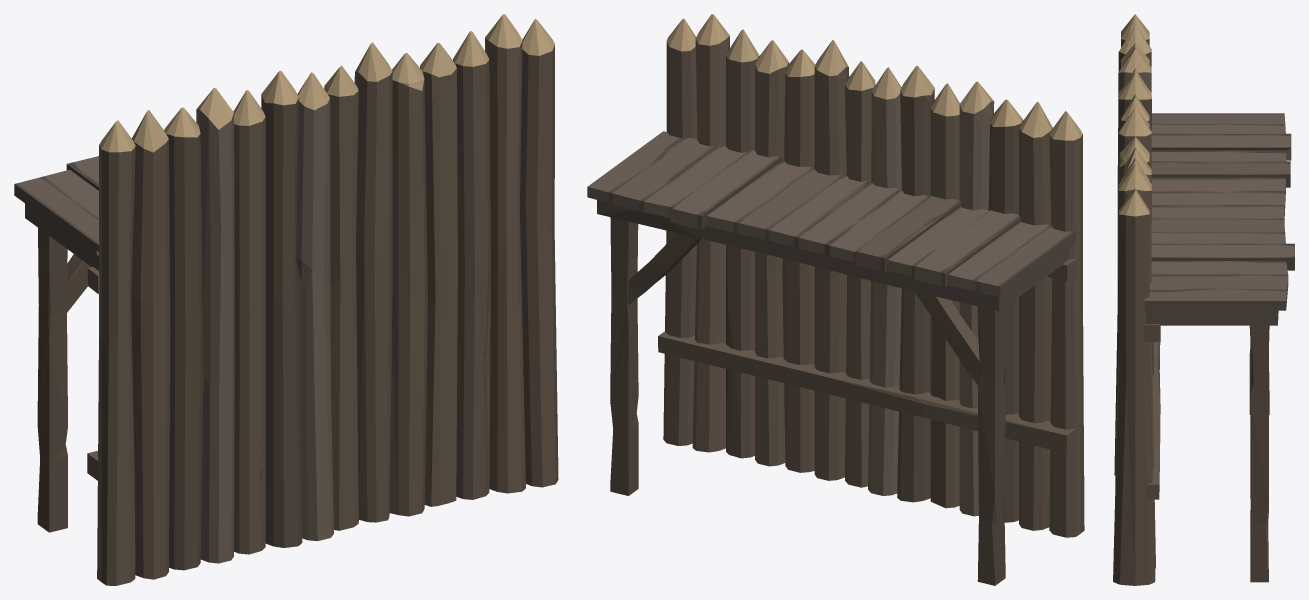
Rendered from SM_Bld_Fort_Wall_01.glb.
3 renders of one model, left to right at view 1: azimuth 30°, elevation 25°; view 2: azimuth 150°, elevation 25°; view 3: azimuth 270°, elevation 25°, orthographic. The views are drawn at different scales.
Parts seen in each view (by area): view 1: SM_Bld_Fort_Wall_01, SM_Bld_Fort_Wall_01_Walkway; view 2: SM_Bld_Fort_Wall_01, SM_Bld_Fort_Wall_01_Walkway; view 3: SM_Bld_Fort_Wall_01_Walkway, SM_Bld_Fort_Wall_01.
Boxes of the visible parts, x1,y1,x2,y2 form: SM_Bld_Fort_Wall_01: (87,14,558,585); SM_Bld_Fort_Wall_01_Walkway: (14,156,98,532); SM_Bld_Fort_Wall_01: (658,14,1084,537); SM_Bld_Fort_Wall_01_Walkway: (587,131,1075,585); SM_Bld_Fort_Wall_01_Walkway: (1144,113,1294,582); SM_Bld_Fort_Wall_01: (1113,14,1160,585).
Bounding box in the file's own units: 5 × 5.06 × 2.05.
Materials: 2 (2 with a texture image).
